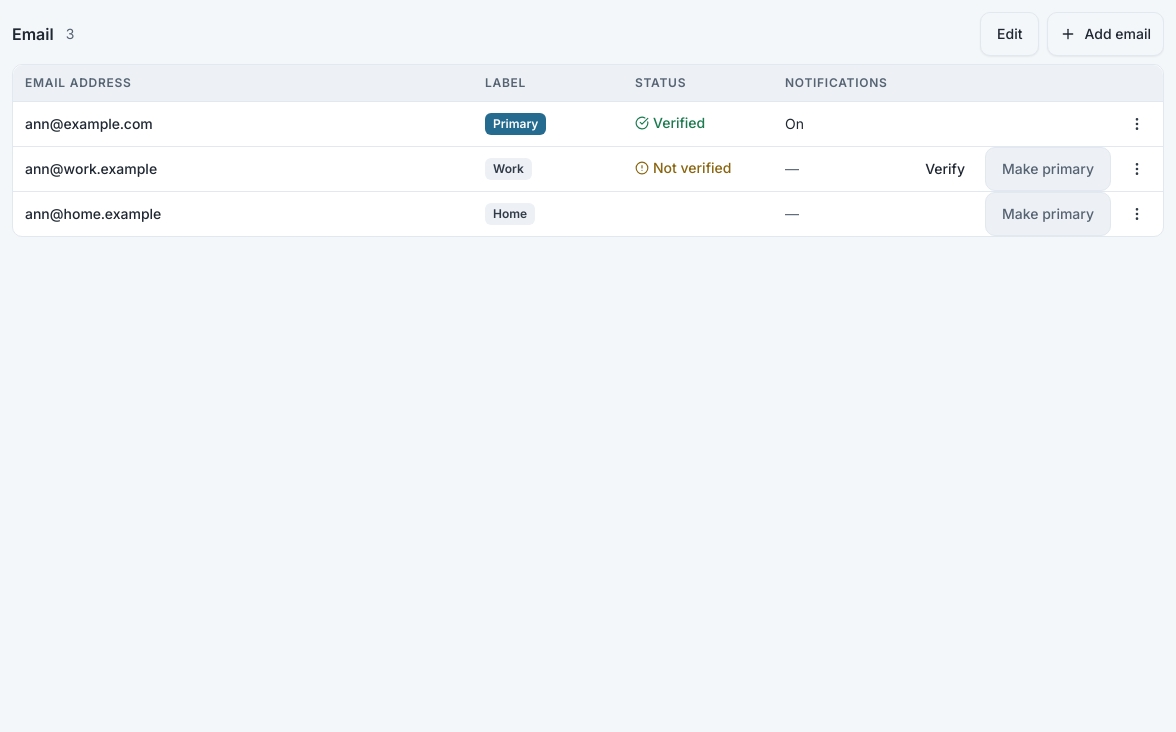
Test: EmailSection: read-view entry points › the Label list is the type key's labels in display order, without Primary
Click the button "Edit" at (1010, 34), box [980, 12, 1040, 56]
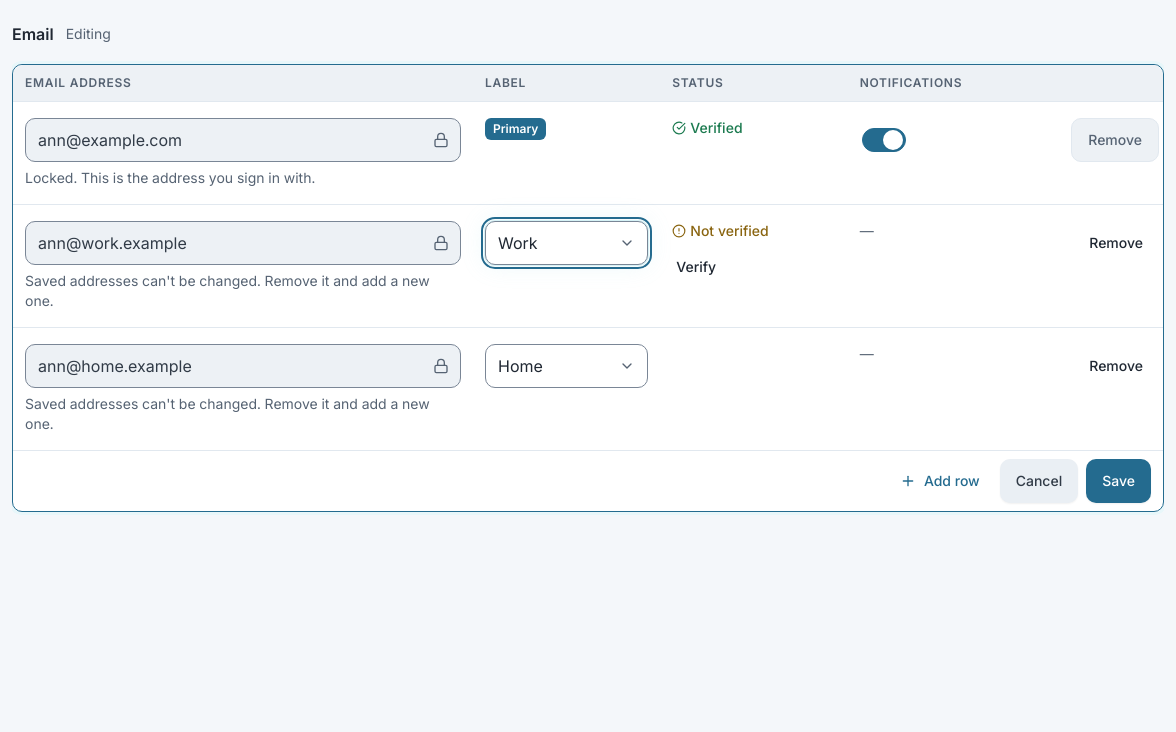
Press Enter in the dropdown named "Label", box [485, 220, 648, 264]
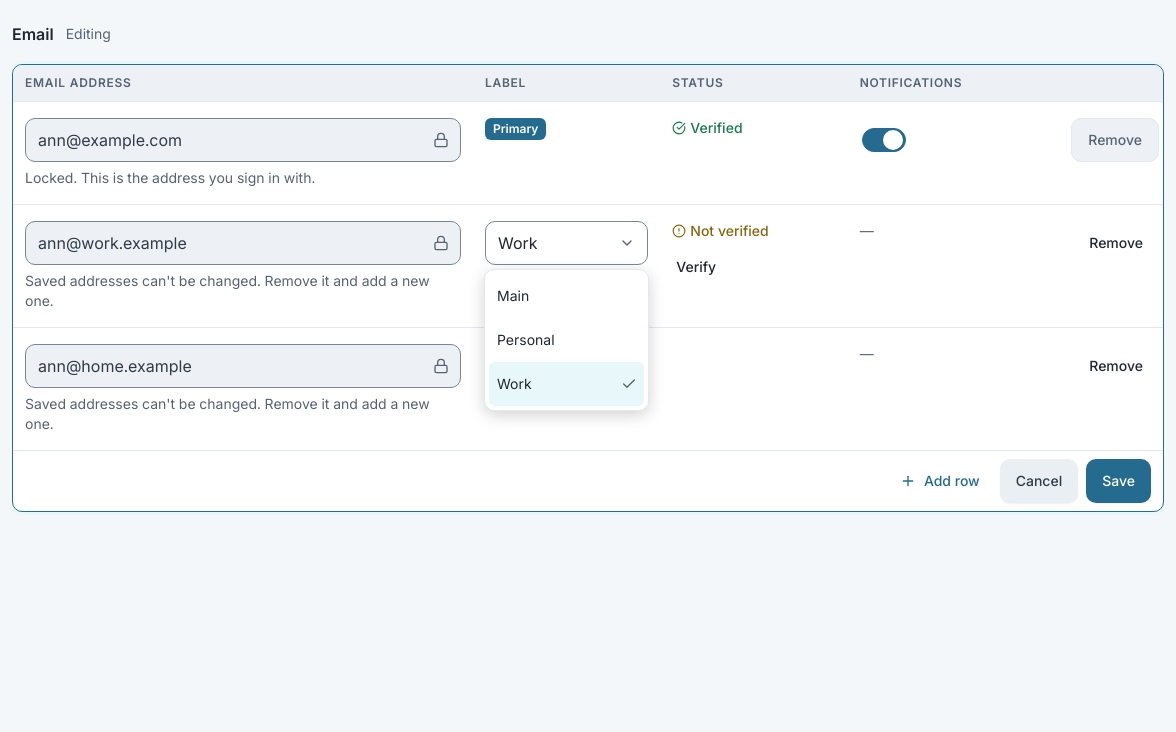
Expected: the options read "Main", "Personal", "Work", in this order, [497, 287, 529, 304]; [497, 331, 555, 348]; [489, 362, 644, 406]
